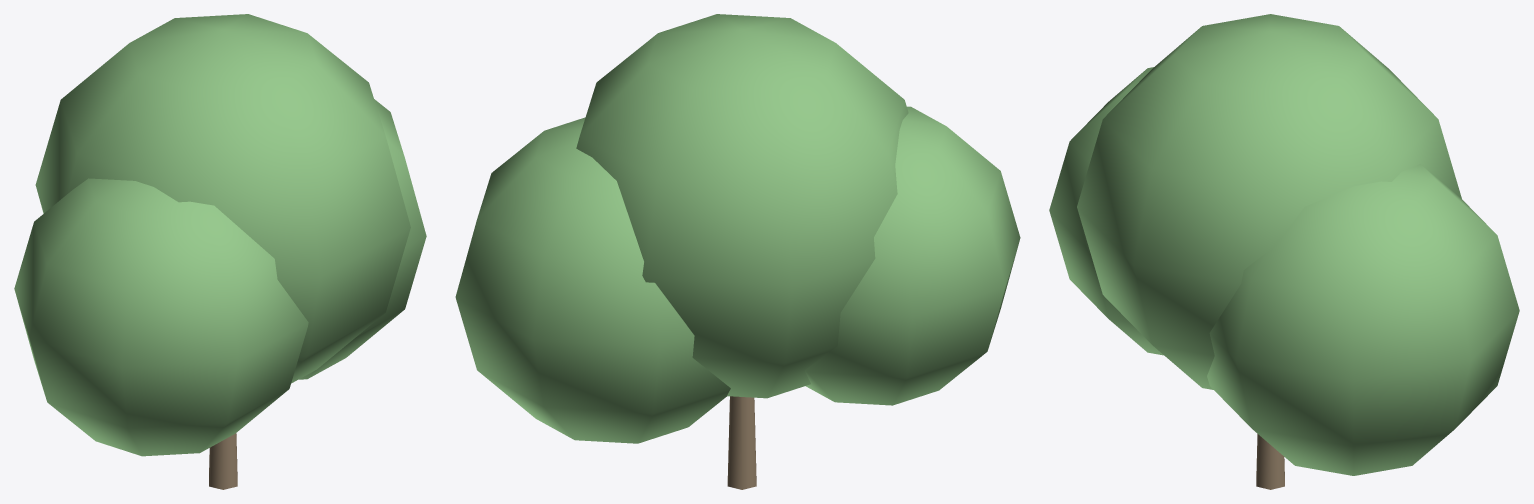
File: shrub_bush.glb
3 views of the same model, side by side, from view 1: azimuth 30°, elevation 25°; view 2: azimuth 150°, elevation 25°; view 3: azimuth 270°, elevation 25° (orthographic).
Parts seen in each view (by area): view 1: Leaves, Stems; view 2: Leaves, Stems; view 3: Leaves, Stems.
Boxes of the visible parts, x1,y1,x2,y2 form: Leaves: (14, 14, 426, 456); Stems: (209, 433, 237, 489); Leaves: (455, 14, 1020, 443); Stems: (727, 396, 756, 489); Leaves: (1049, 14, 1519, 475); Stems: (1256, 434, 1284, 489).
Bounding box in the file's own units: 3.8 × 3.6 × 3.4.
